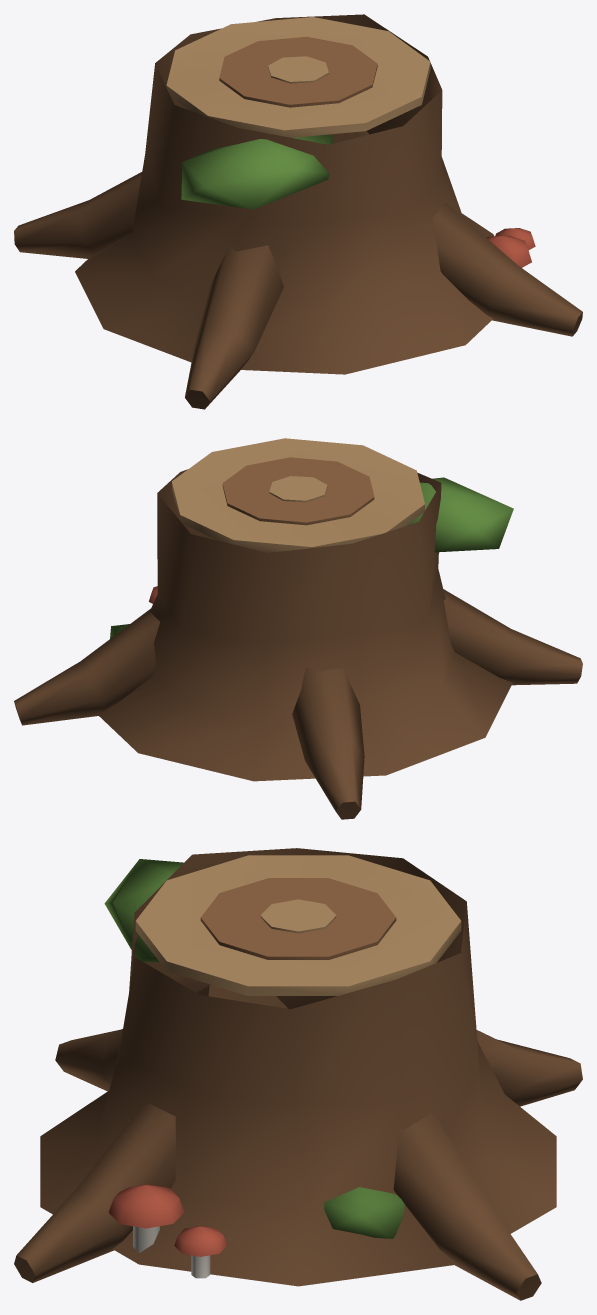
File: tree_stump.glb
The picture shows the model from 3 angles, top to bottom: view 1: azimuth 30°, elevation 25°; view 2: azimuth 150°, elevation 25°; view 3: azimuth 270°, elevation 25°; orthographic projection. The views are drawn at different scales.
Parts seen in each view (by area): view 1: tree_stump; view 2: tree_stump; view 3: tree_stump.
Part boxes in pixels (<box>): tree_stump: <box>14,14,582,409</box>; tree_stump: <box>14,438,582,819</box>; tree_stump: <box>14,848,582,1300</box>.
Bounding box in the file's own units: 1.05 × 0.546 × 1.05.
